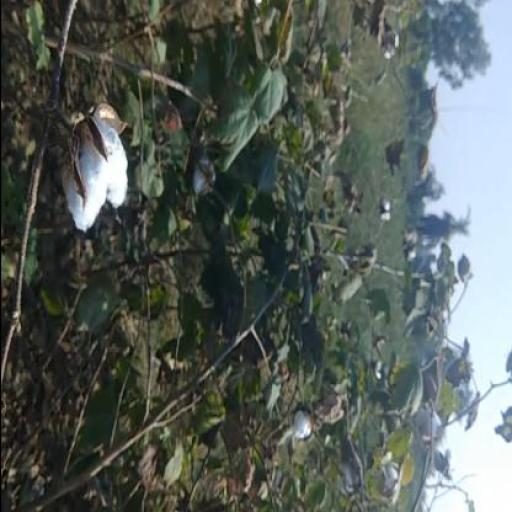cotton_ready: (34, 91, 143, 249)
